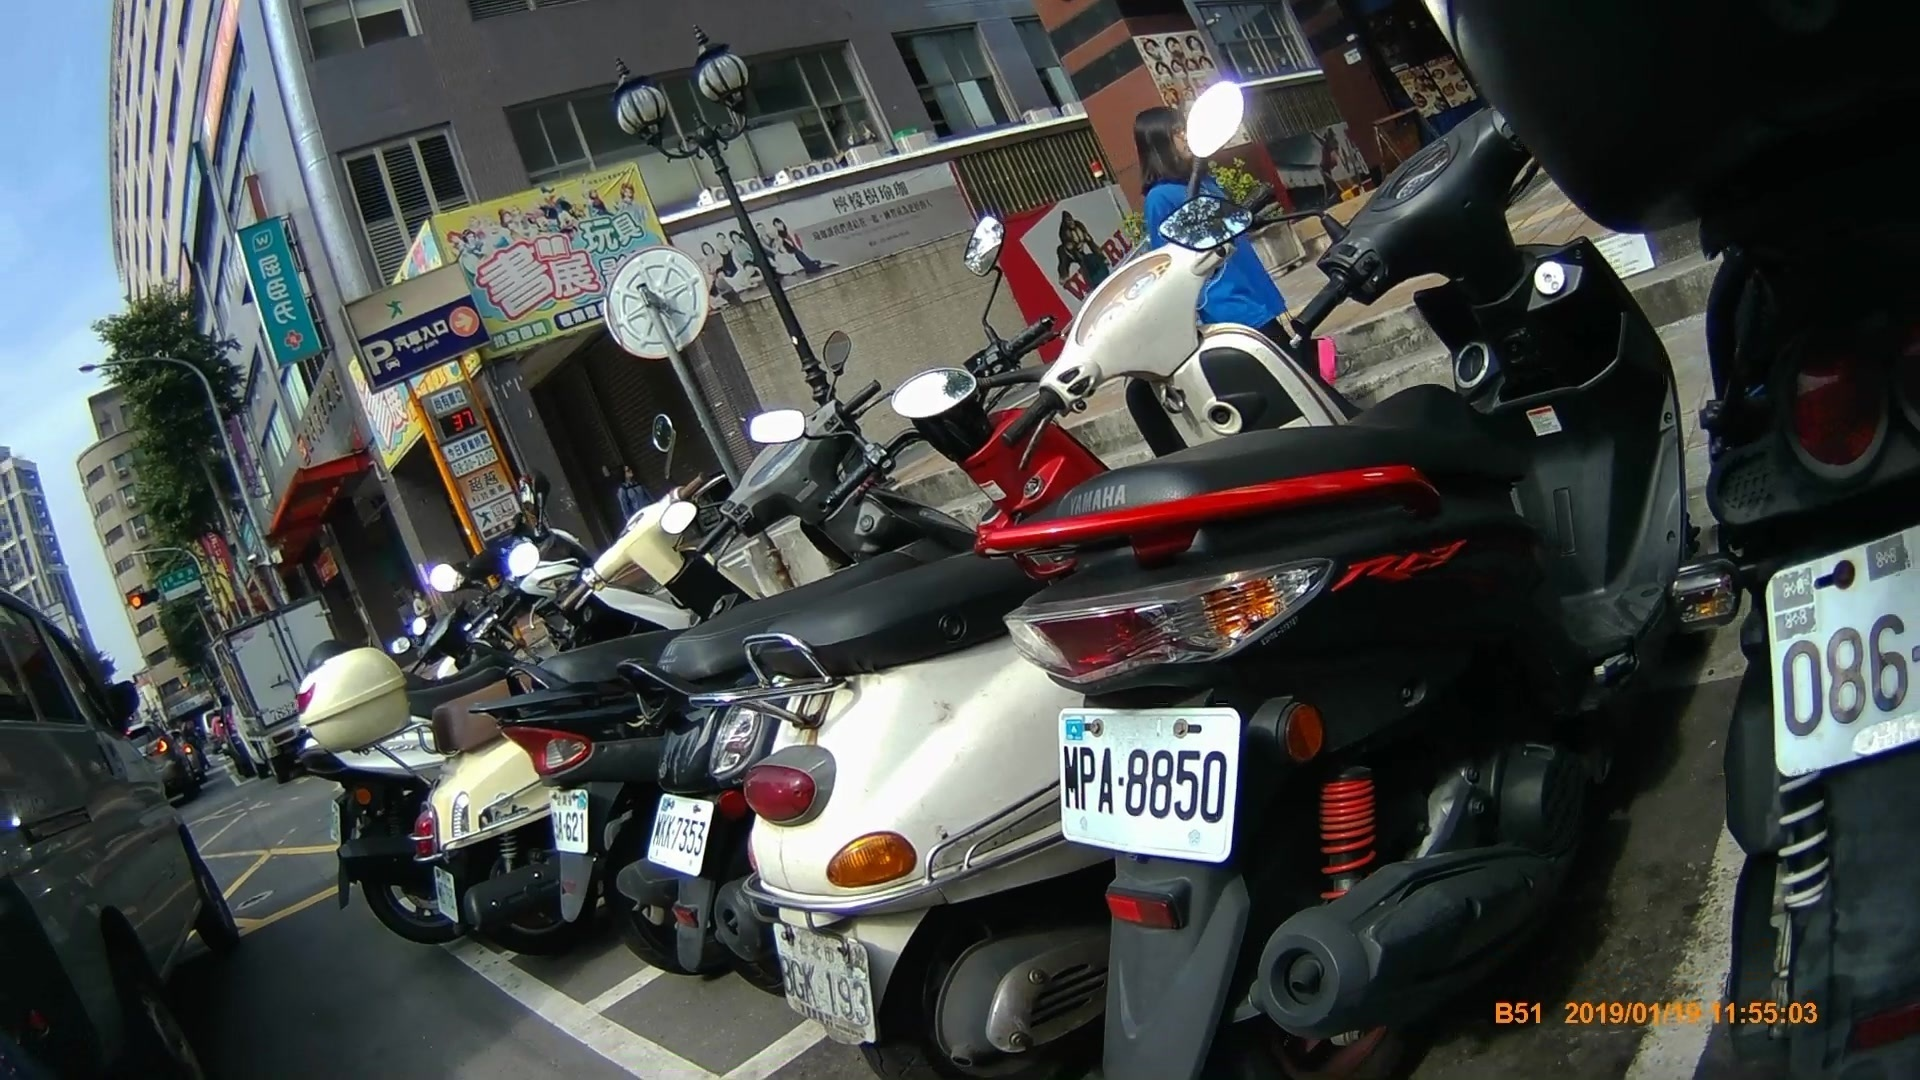License_plate: (1054, 715, 1241, 860), (768, 925, 881, 1038), (647, 791, 719, 879), (539, 789, 593, 856)
